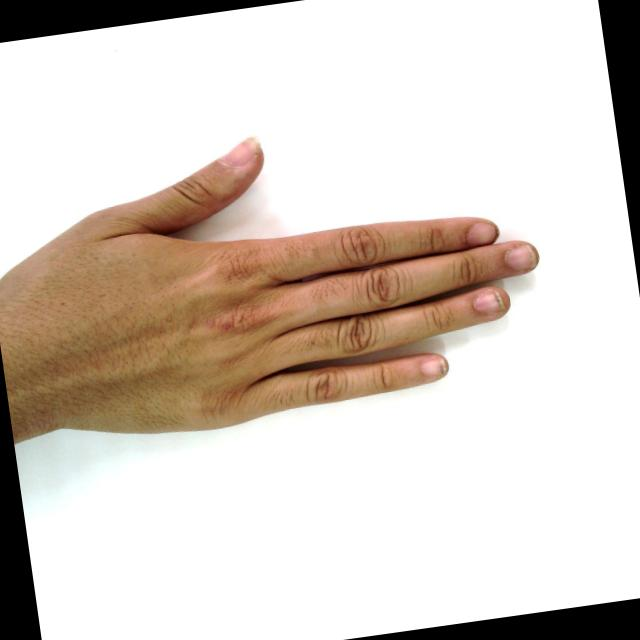Nail: (217, 135, 261, 165), (505, 242, 539, 270), (474, 288, 506, 312), (467, 221, 498, 245), (421, 355, 448, 378)
